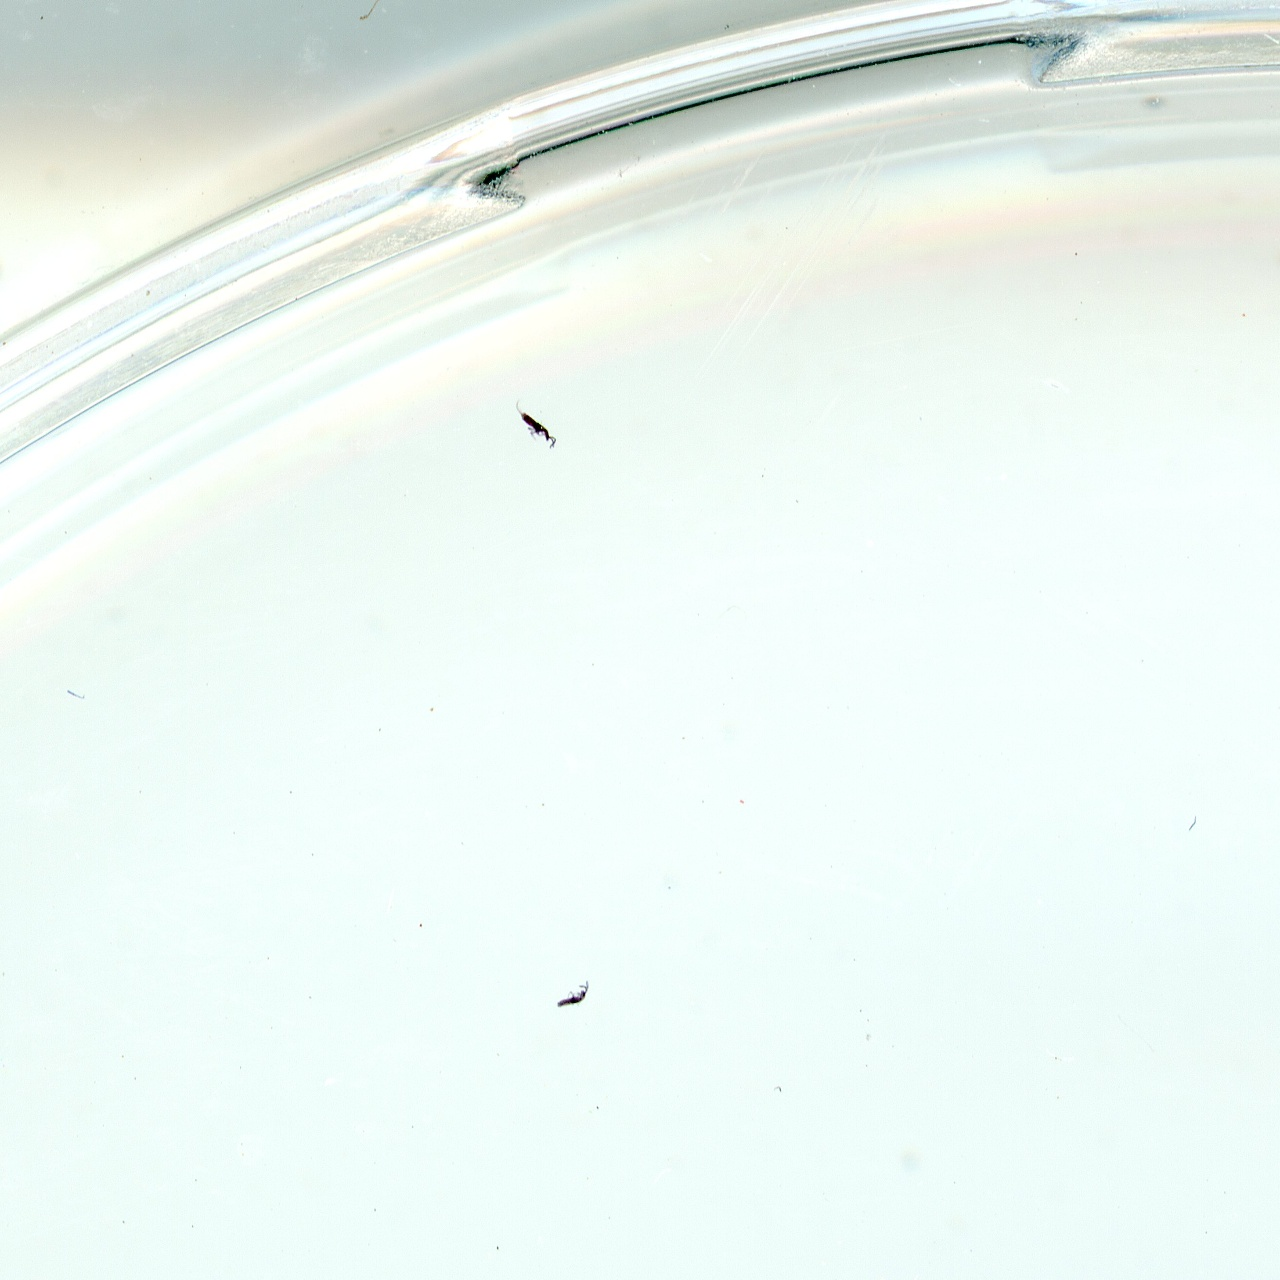arthropod: (510, 396, 563, 454), (552, 977, 594, 1013)
